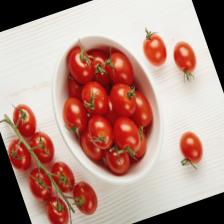tomato: (172, 127, 210, 174), (135, 22, 172, 70), (168, 36, 204, 84), (108, 113, 146, 158), (105, 78, 144, 121), (77, 76, 114, 120), (102, 47, 138, 92), (63, 44, 98, 88), (57, 93, 92, 136), (83, 111, 118, 153), (68, 177, 102, 219), (8, 100, 42, 142), (24, 163, 57, 205), (27, 128, 60, 168), (4, 135, 36, 174), (47, 158, 79, 196), (42, 193, 74, 224)
